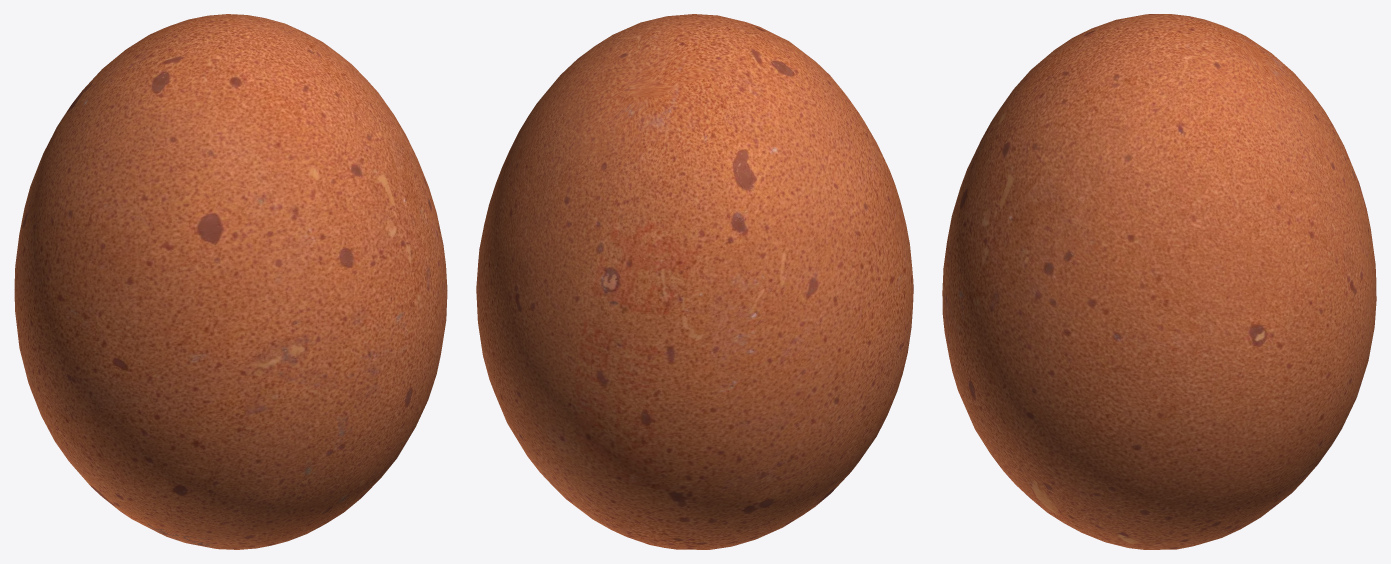
File: realegg.glb
3 renders of one model, left to right at view 1: azimuth 30°, elevation 25°; view 2: azimuth 150°, elevation 25°; view 3: azimuth 270°, elevation 25°, orthographic.
Visible parts, largest first — view 1: Object_2; view 2: Object_2; view 3: Object_2.
Boxes of the visible parts, x1,y1,x2,y2 form: Object_2: (14, 14, 447, 549); Object_2: (476, 14, 913, 549); Object_2: (942, 14, 1376, 549).
Bounding box in the file's own units: 0.0468 × 0.06 × 0.0468.
Materials: 1 (1 with a texture image).
